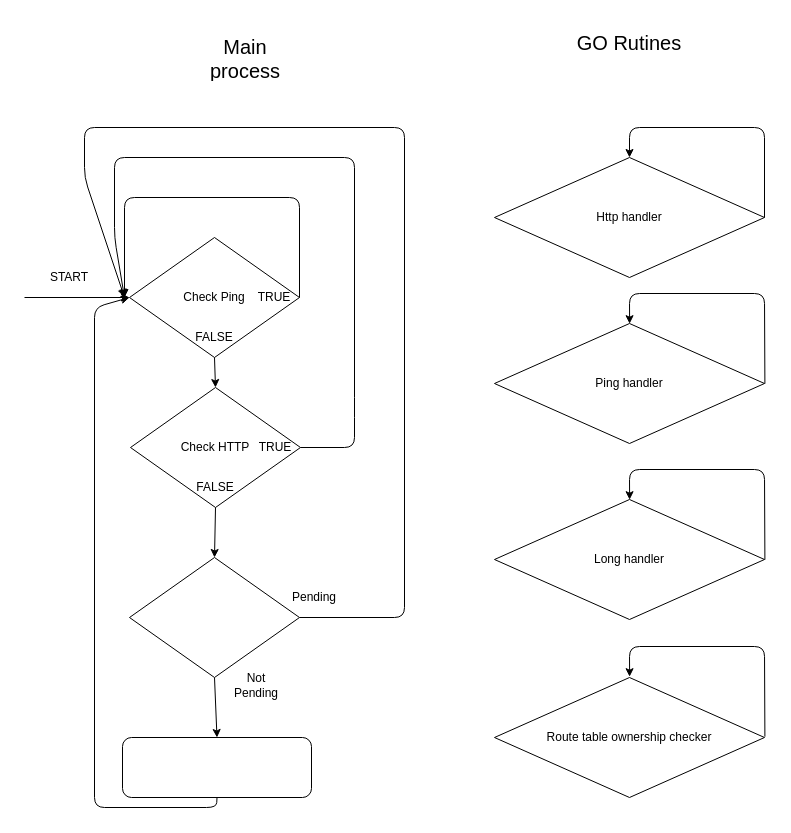
This 791x833 diagram has some shape labels left out. The centre of each missing label's shape, as x and y in pixels:
"Check instance status" goes at [214,617].
"Take the other box routes ." goes at [217,767].
